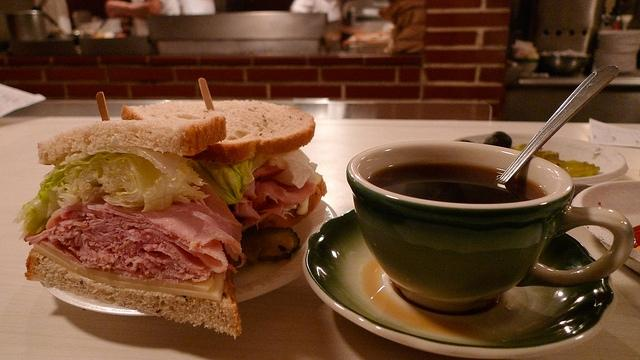lettuce: (12, 146, 212, 240), (187, 155, 271, 205)
